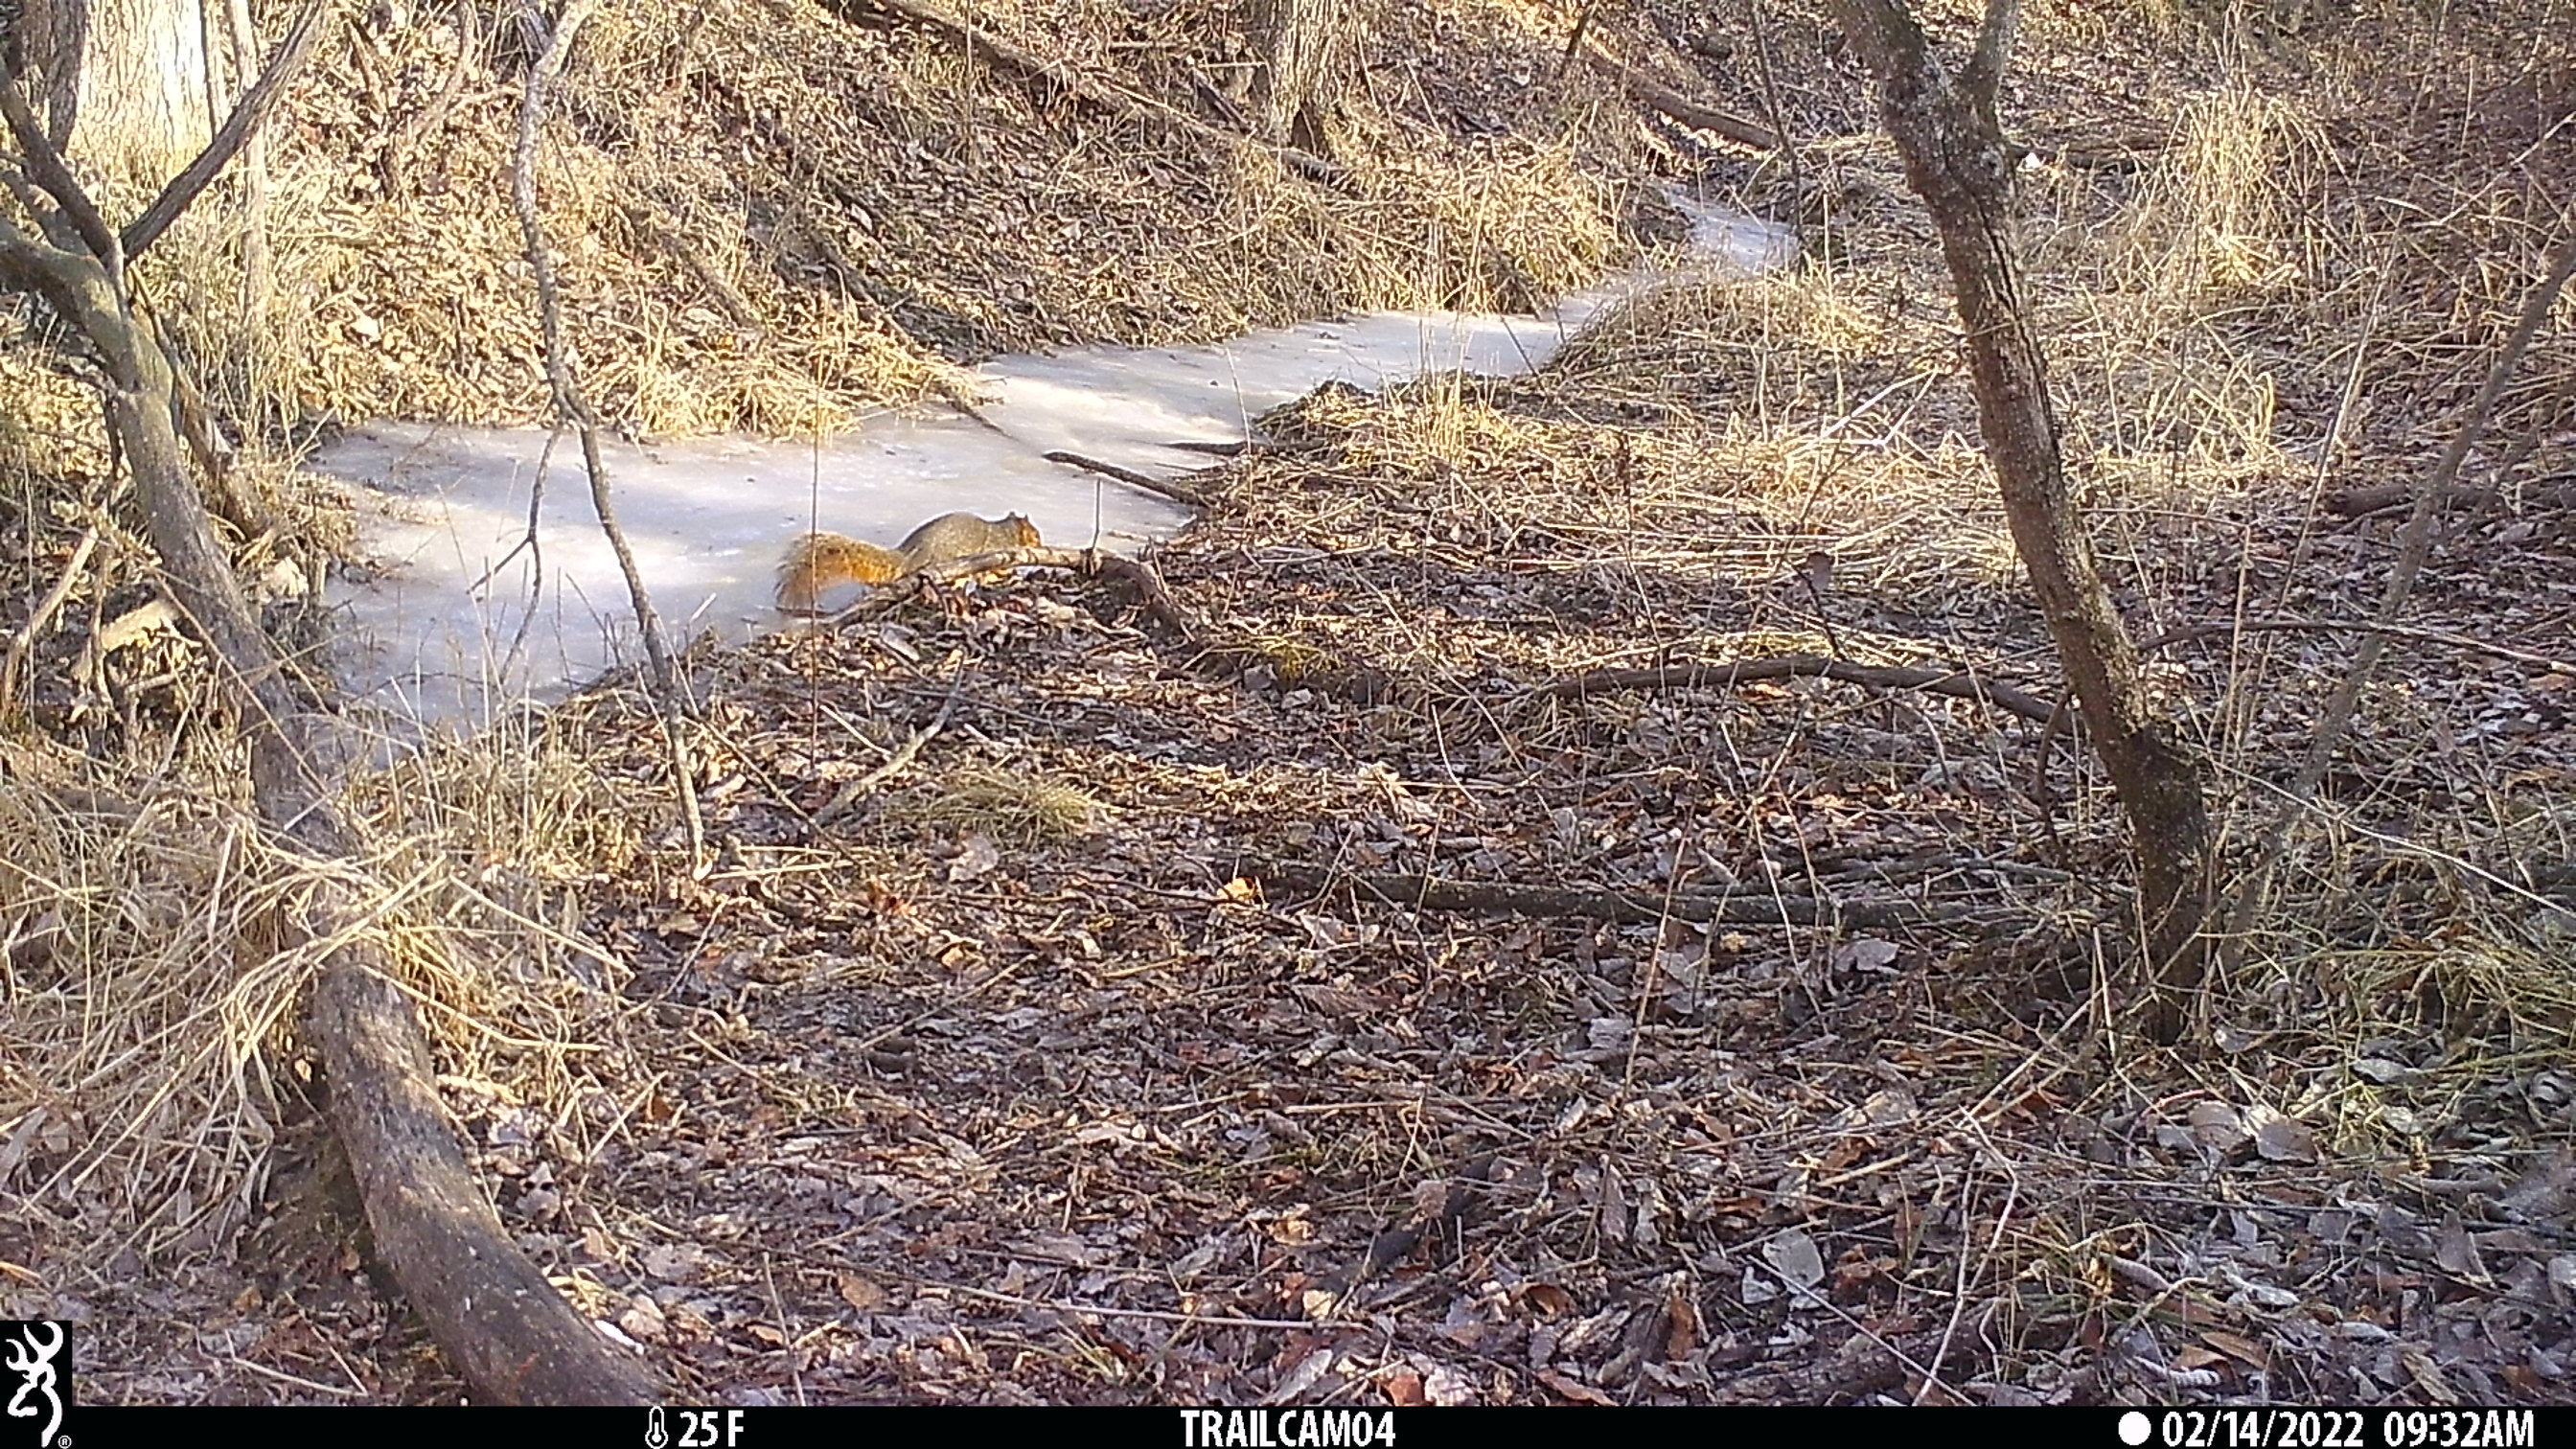Squirrel: (782, 508, 1039, 600)
